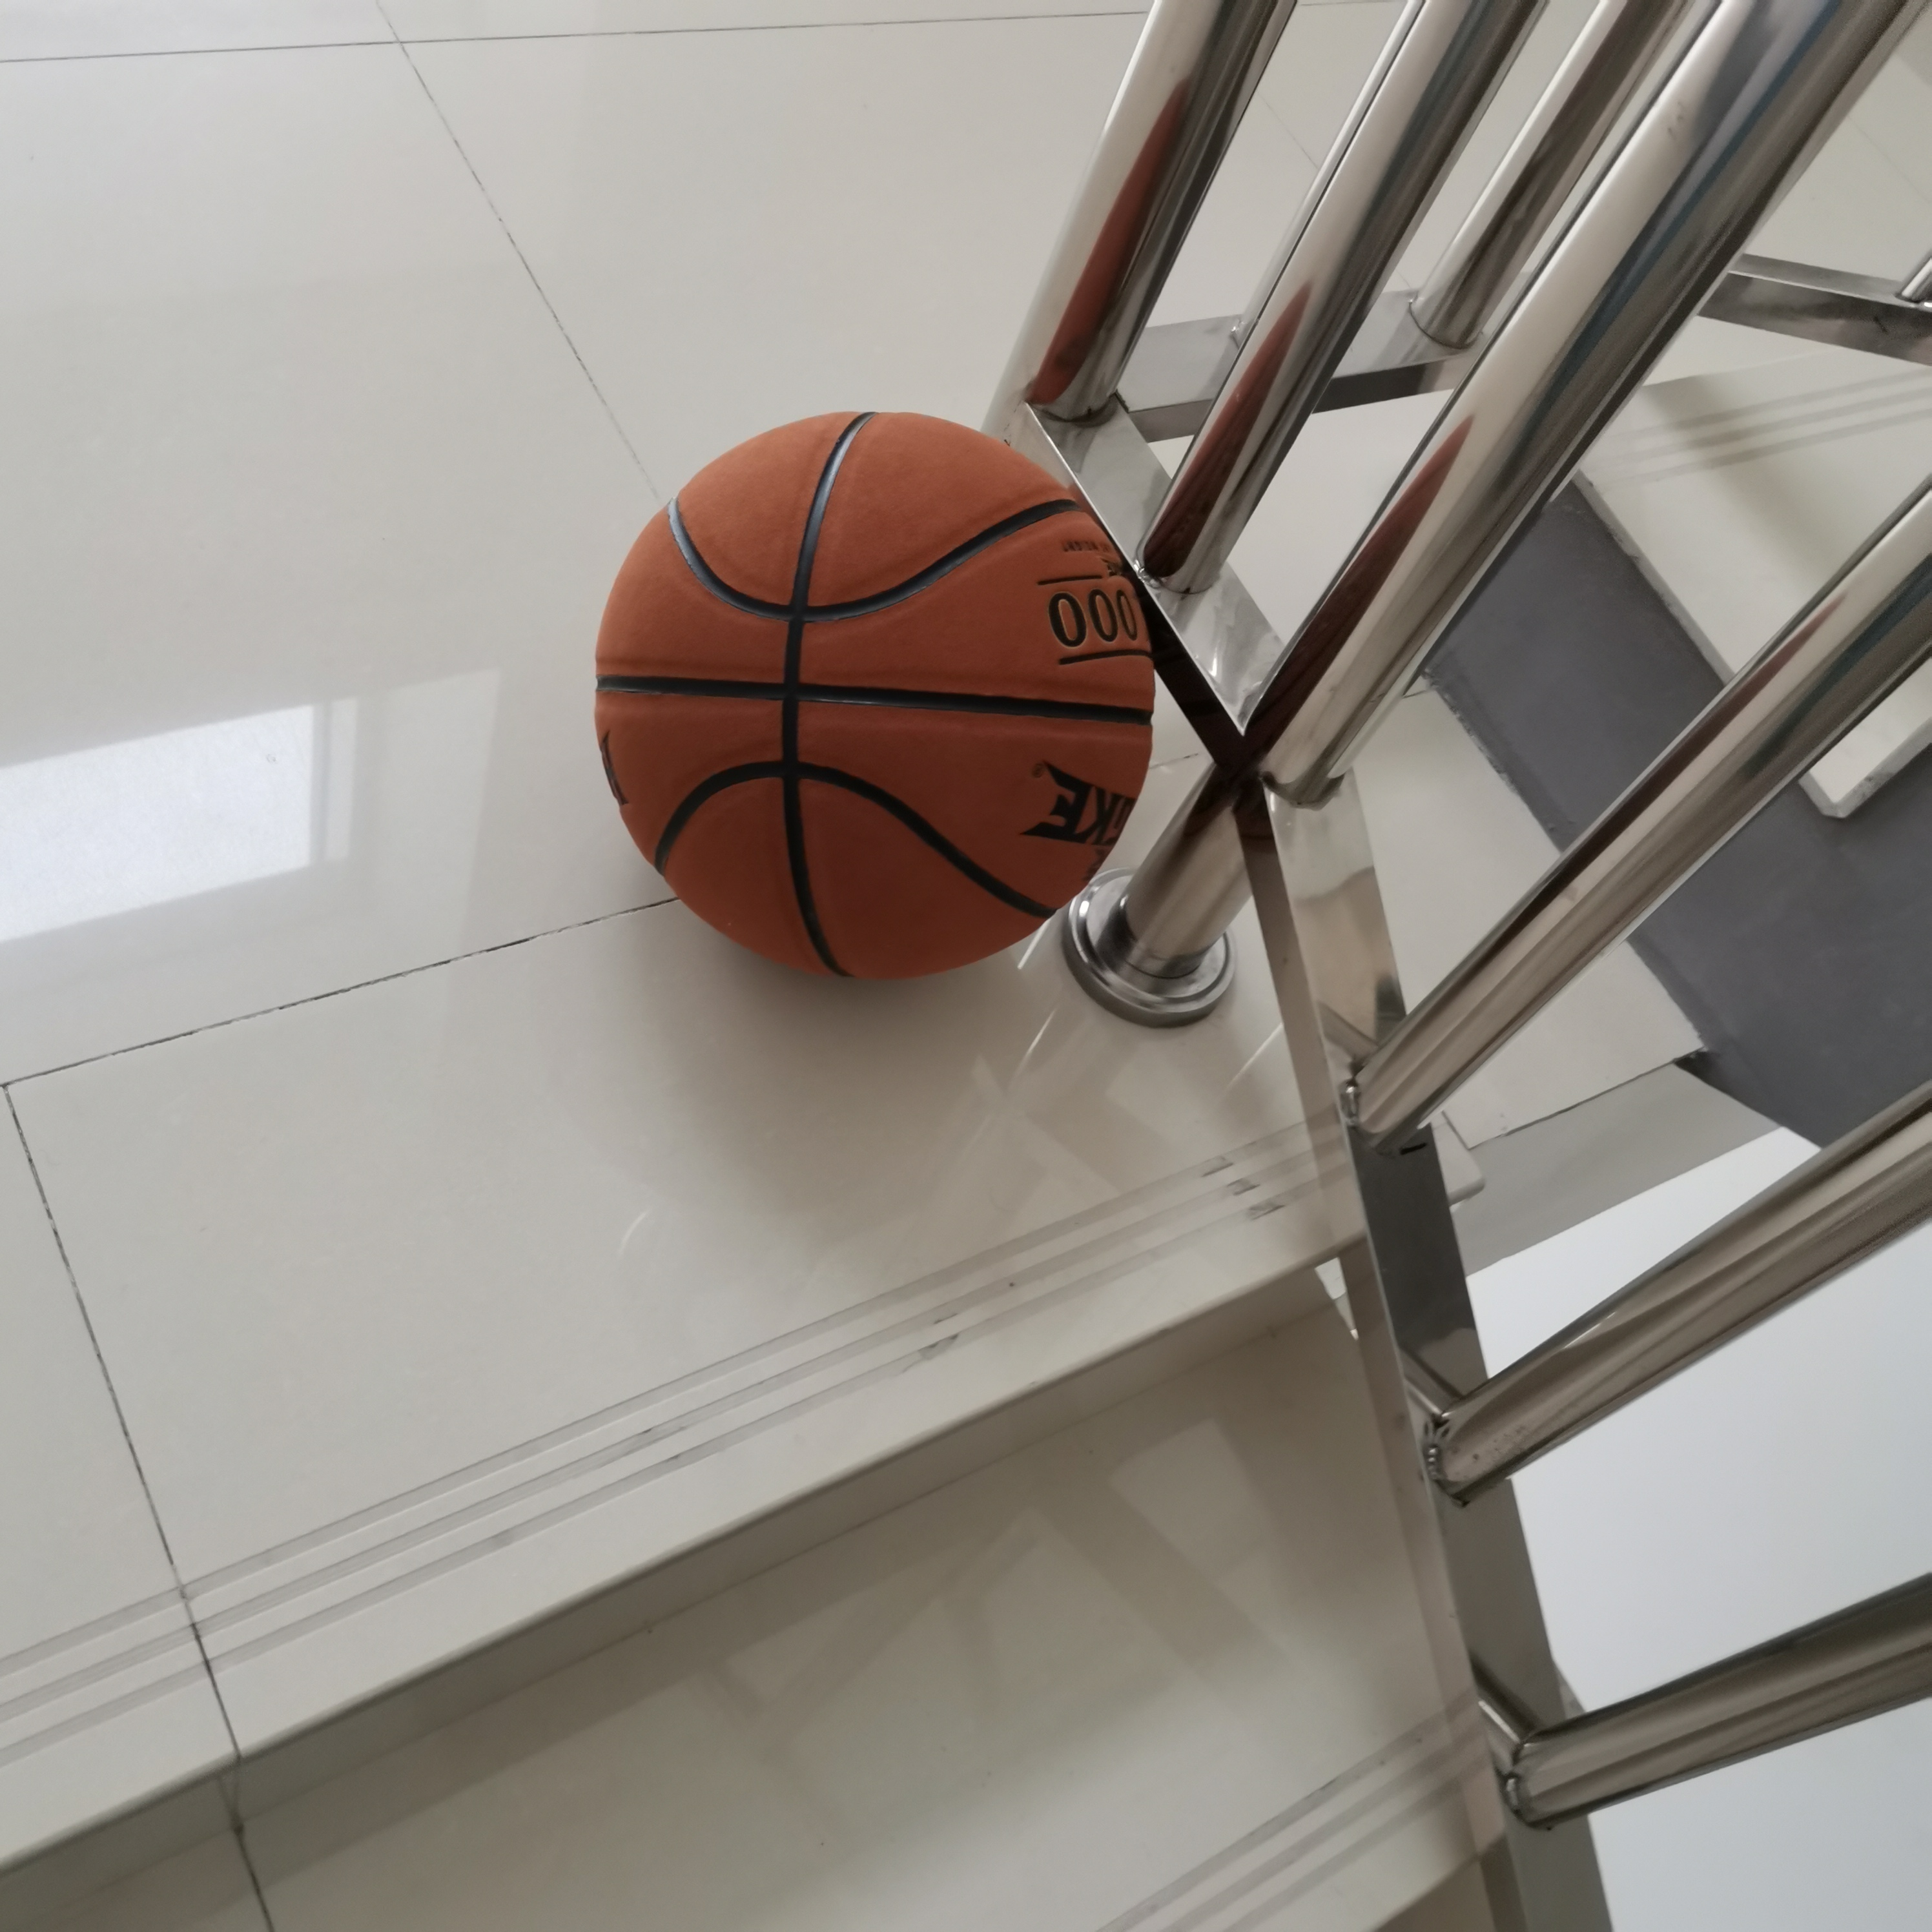basketball: (596, 412, 1145, 982)
